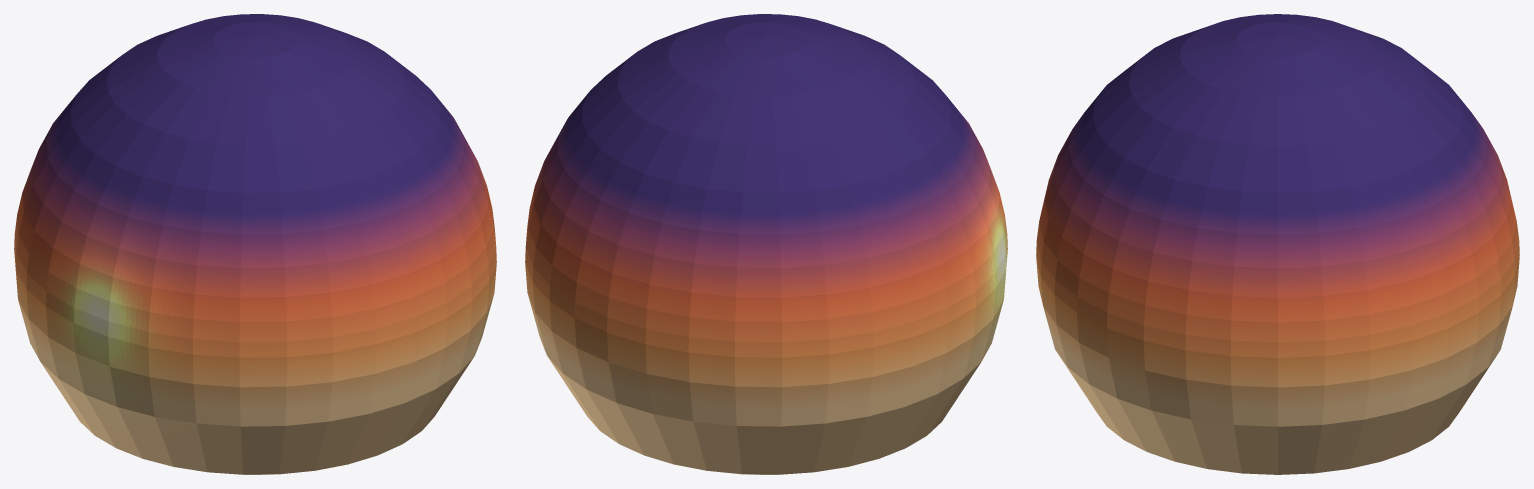
Rendered from oasis.glb.
3 renders of one model, left to right at view 1: azimuth 30°, elevation 25°; view 2: azimuth 150°, elevation 25°; view 3: azimuth 270°, elevation 25°, orthographic.
Parts seen in each view (by area): view 1: sky; view 2: sky; view 3: sky.
Part boxes in pixels (x1,y1,x2,y2): sky: (14,14,496,474); sky: (525,14,1007,474); sky: (1036,14,1519,474).
Size of the model in its own units: 640 by 640 by 640.
8 materials, 8 textured.
